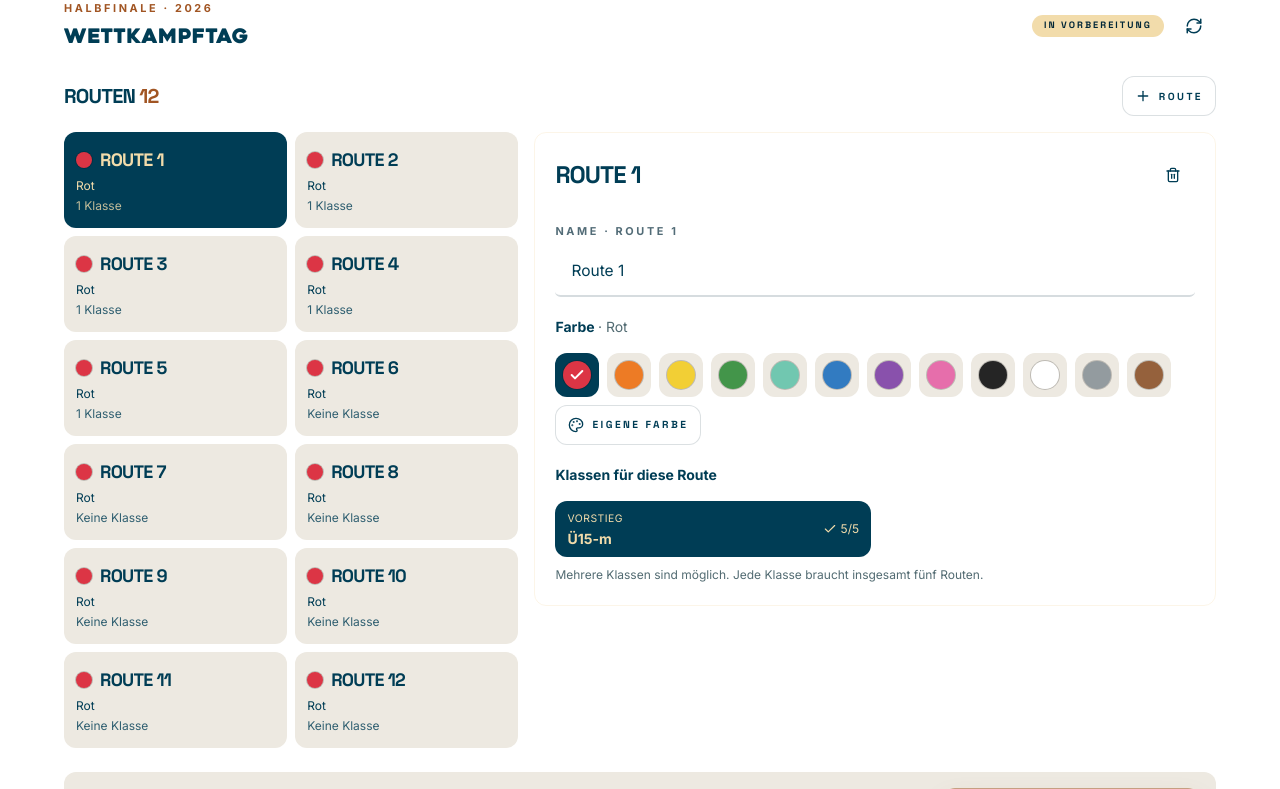
Scenario: competition admin › edits classes and color on the selected route without a scoring form
Later steps or results of the test are not shown.
Click the button with aria-label "Route 2 bearbeiten": (407, 180) [295, 132, 518, 228]
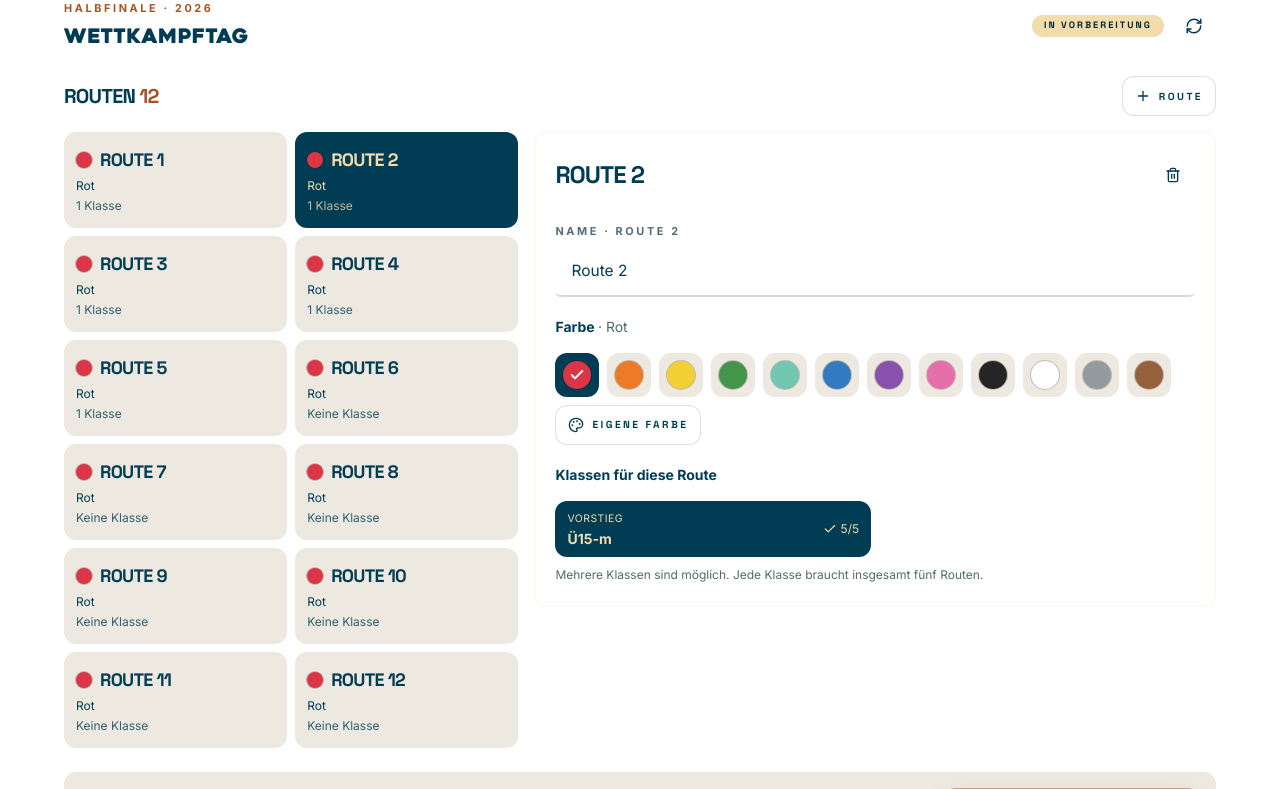
Check: the field labelled "Name · Route 2" is shown, box [571, 259, 1179, 283]
Check: the text labelled "Name · Route 1" is gone
Click the button named "Blau": (837, 375) [815, 353, 859, 397]
(page scrolled)
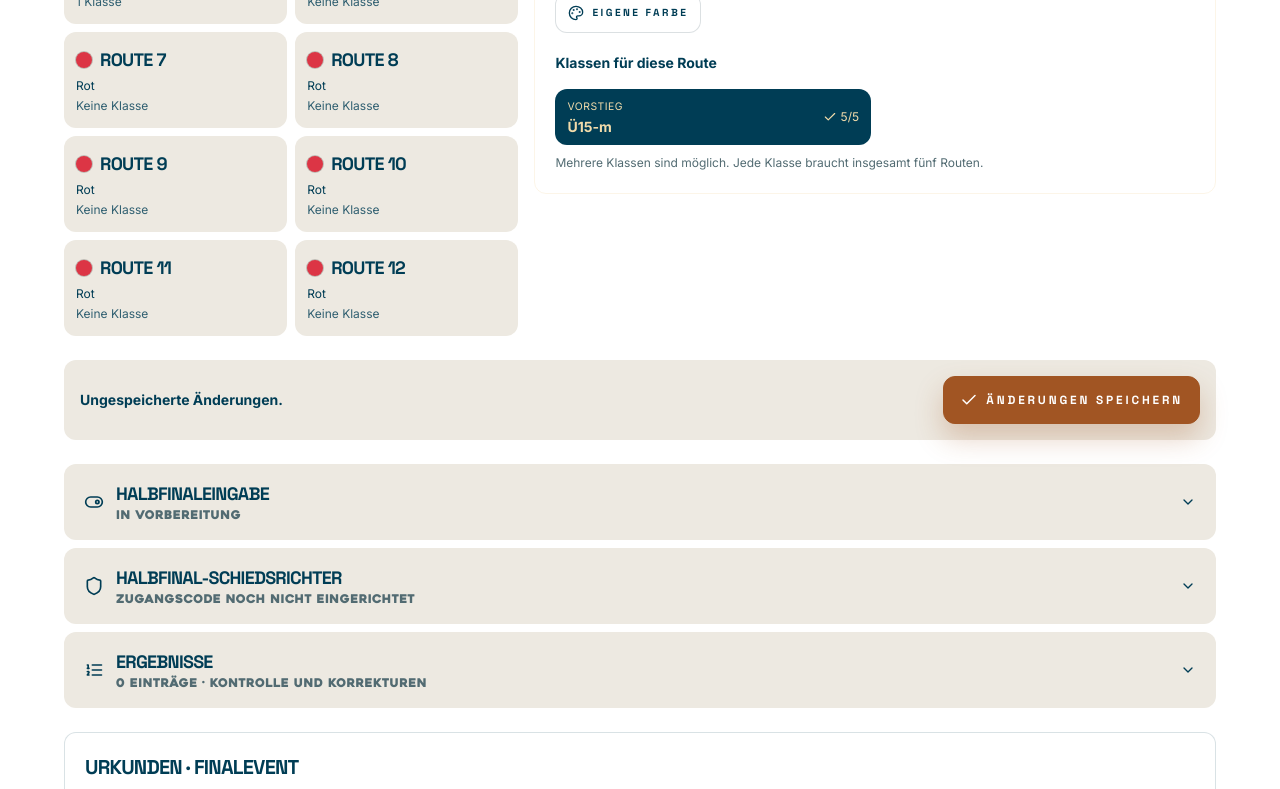
Check: the text "Ungespeicherte Änderungen." is shown, box [80, 390, 283, 410]
